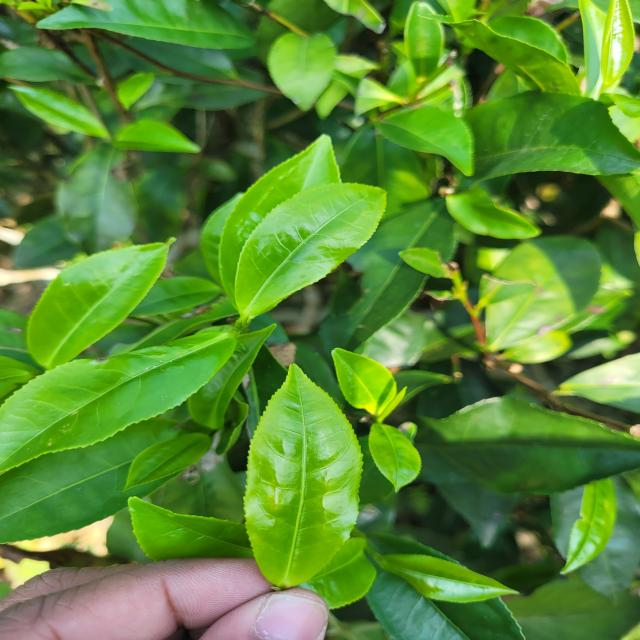Catagory A 1-2 days: (226, 359, 388, 593)
